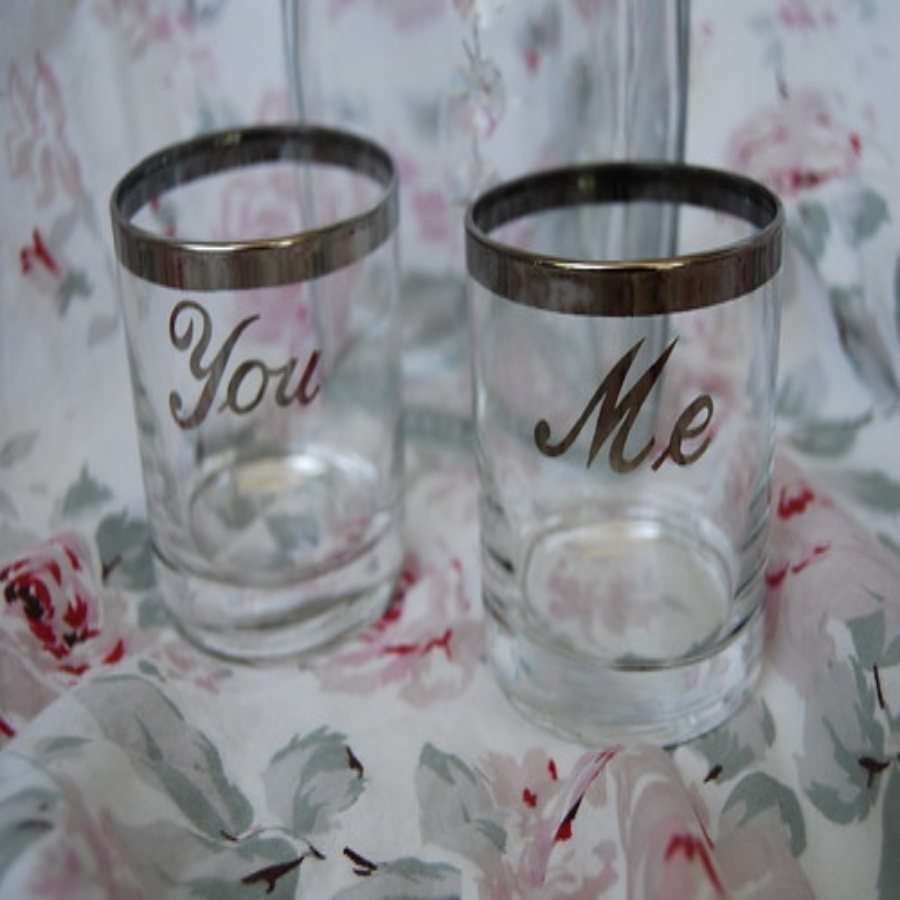whiskey: (459, 162, 790, 732), (112, 115, 394, 650)
